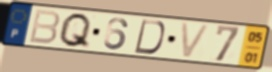6: (103, 17, 130, 51)
7: (214, 24, 242, 64)
B: (27, 9, 62, 46)
D: (132, 18, 167, 56)
Q: (57, 12, 94, 50)
V: (179, 21, 213, 60)
